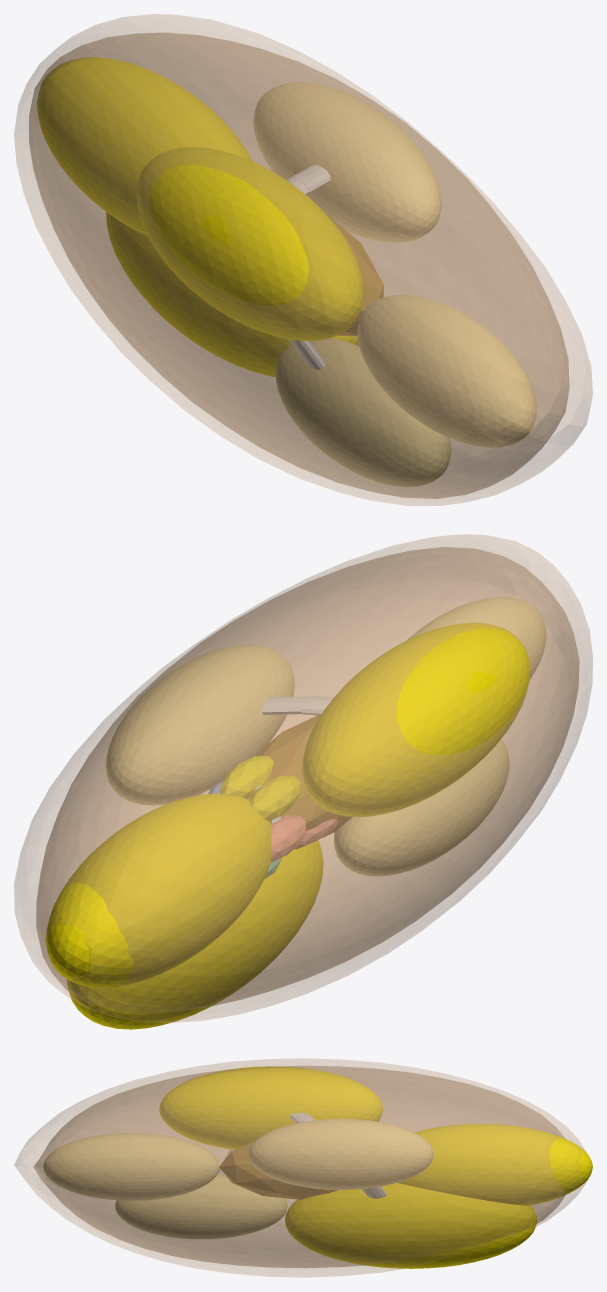
The model's file is mutante_virus_ficticio_c_8280297.glb.
3 renders of one model, top to bottom at view 1: azimuth 30°, elevation 25°; view 2: azimuth 150°, elevation 25°; view 3: azimuth 270°, elevation 25°, orthographic. The views are drawn at different scales.
Parts seen in each view (by area): view 1: geometry_0, geometry_1, geometry_62, geometry_63, geometry_65, geometry_60, geometry_61, geometry_64, geometry_2; view 2: geometry_0, geometry_1, geometry_62, geometry_65, geometry_63, geometry_64, geometry_61, geometry_60, geometry_2, geometry_75, geometry_74, geometry_76 (+1 smaller); view 3: geometry_0, geometry_1, geometry_64, geometry_62, geometry_65, geometry_63, geometry_60, geometry_61, geometry_2.
Boxes of the visible parts, x1,y1,x2,y2 form: geometry_0: (14, 14, 592, 505); geometry_1: (29, 32, 569, 498); geometry_62: (136, 147, 364, 340); geometry_63: (253, 82, 441, 242); geometry_65: (37, 57, 252, 235); geometry_60: (357, 294, 536, 447); geometry_61: (275, 338, 451, 487); geometry_64: (106, 212, 358, 376); geometry_2: (324, 212, 383, 335); geometry_0: (14, 534, 592, 1022); geometry_1: (36, 547, 579, 1012); geometry_62: (302, 622, 530, 817); geometry_65: (46, 793, 271, 987); geometry_63: (106, 644, 294, 805); geometry_64: (66, 840, 323, 1029); geometry_61: (334, 739, 509, 876); geometry_60: (407, 597, 546, 679); geometry_2: (248, 715, 351, 849); geometry_75: (249, 775, 300, 821); geometry_74: (220, 756, 273, 798); geometry_76: (270, 815, 305, 862); geometry_0: (14, 1058, 587, 1277); geometry_1: (33, 1065, 565, 1268); geometry_64: (285, 1183, 537, 1268); geometry_62: (159, 1066, 382, 1149); geometry_65: (398, 1124, 592, 1205); geometry_63: (248, 1118, 433, 1189); geometry_60: (43, 1133, 219, 1200); geometry_61: (115, 1174, 287, 1239); geometry_2: (219, 1141, 337, 1199).
Bounding box in the file's own units: 6.37 × 6.43 × 17.05.
